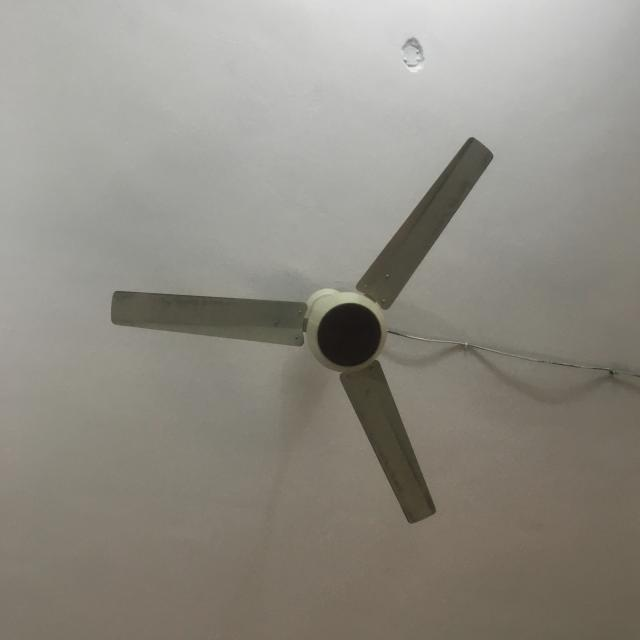off: (106, 128, 504, 532)
